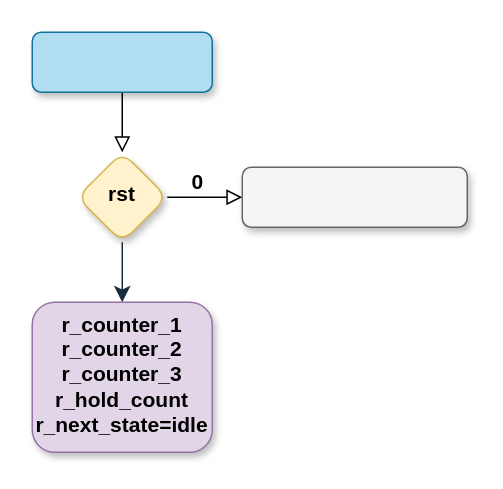
Image size: 503x489. Some labels were removed from this diagram. The centre of each missing label's shape, as x and y in pixels:
"idle state" goes at point 123,64.
"r_next_state=vote" goes at point 355,199.
